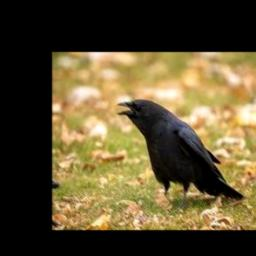Crow: (117, 99, 245, 209)
